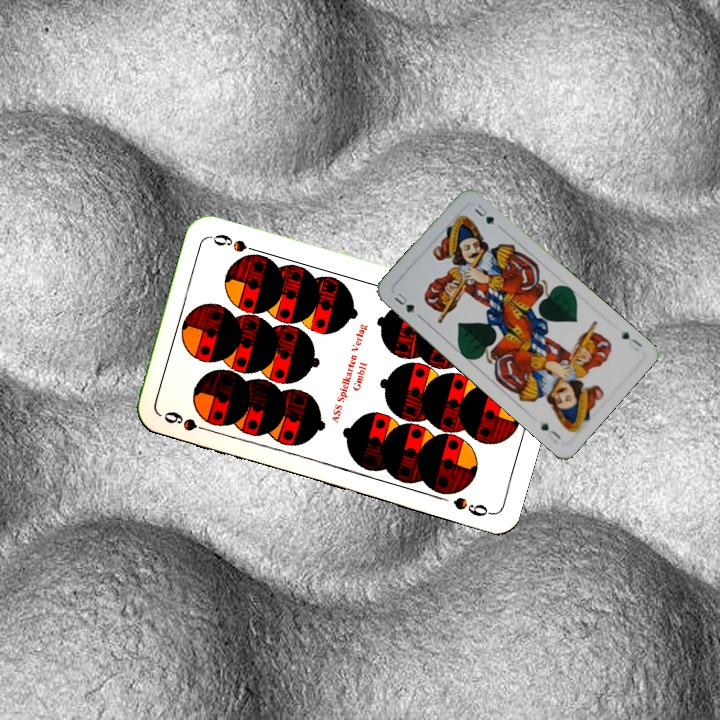GU: (390, 288, 417, 316), (618, 327, 645, 354)
S9: (159, 407, 217, 435)
